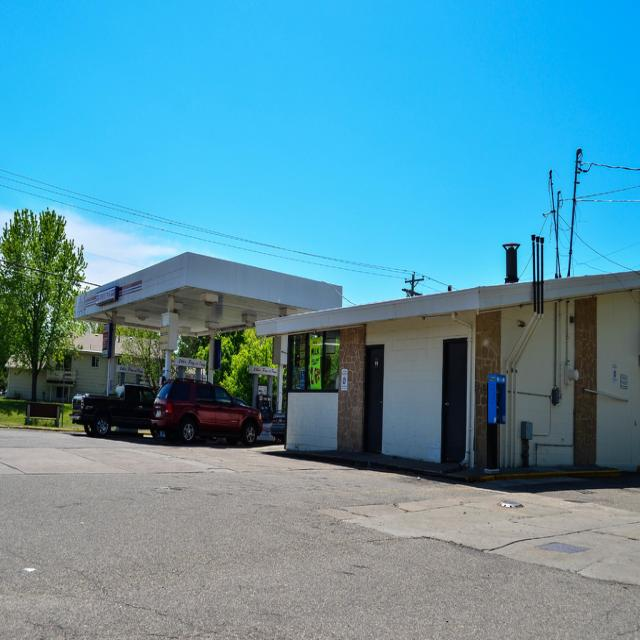car: (143, 373, 265, 448)
